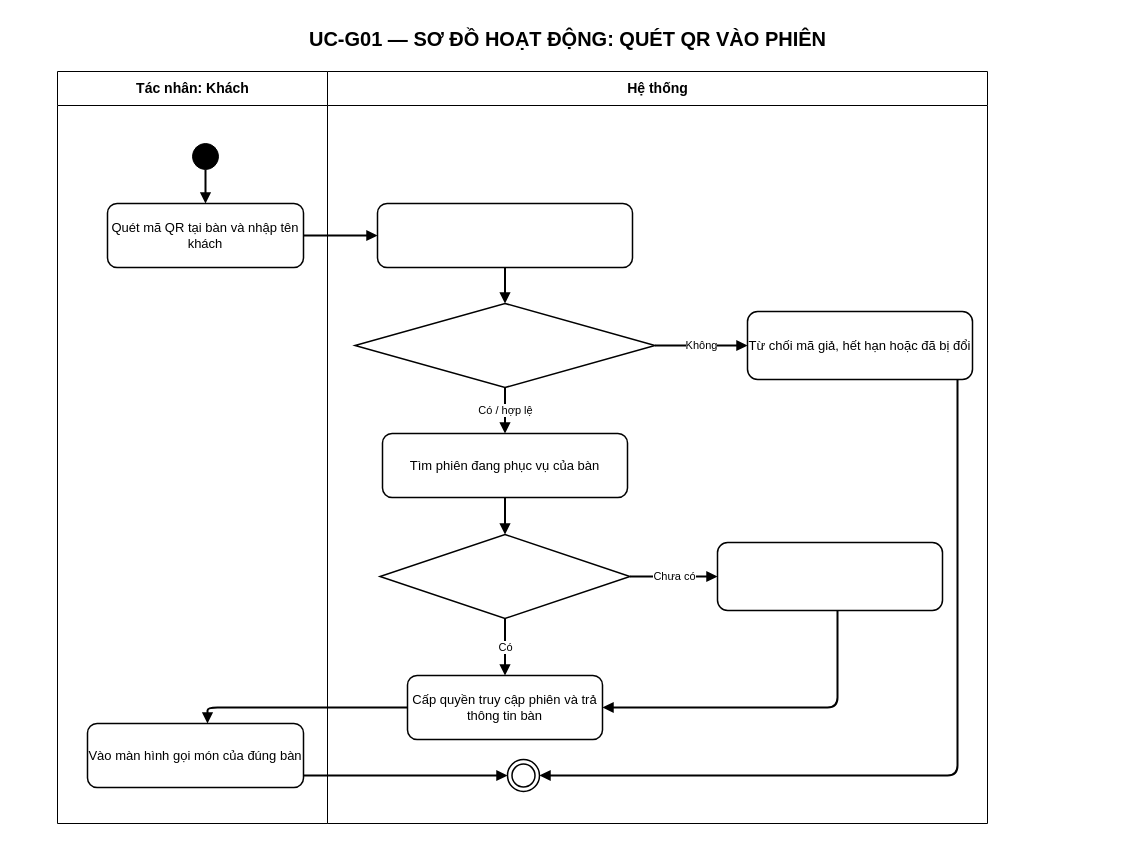
Some shapes in this 1134 by 841 pixel diagram are drawn without their labels. Here are the shapes that lost their labels. From the top down, the centre of each, then its label:
At (x=504, y=235): "Gửi yêu cầu tham gia phiên của bàn".
At (x=504, y=345): "Mã QR còn hiệu lực và đúng bàn?".
At (x=504, y=576): "Bàn đã có phiên?".
At (x=829, y=576): "Mở phiên mới và báo nhân viên tới xác minh".
